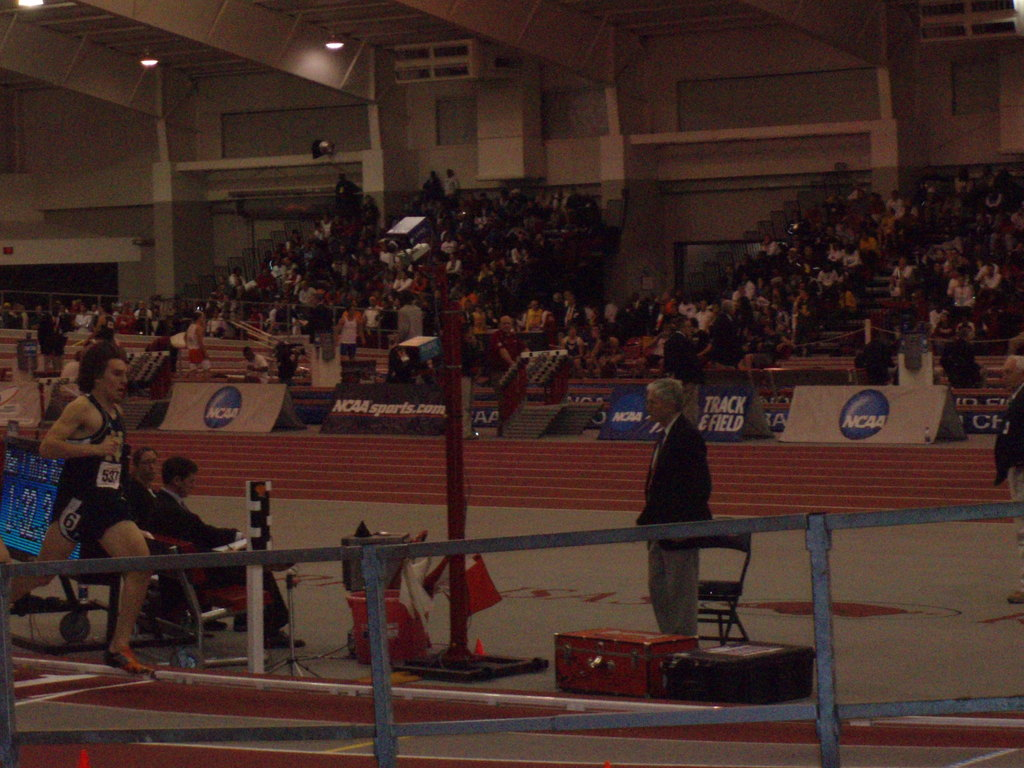Person: (0, 169, 1024, 383), (10, 342, 153, 677), (151, 457, 306, 647), (636, 380, 715, 639), (123, 446, 224, 631), (995, 357, 1024, 604)
